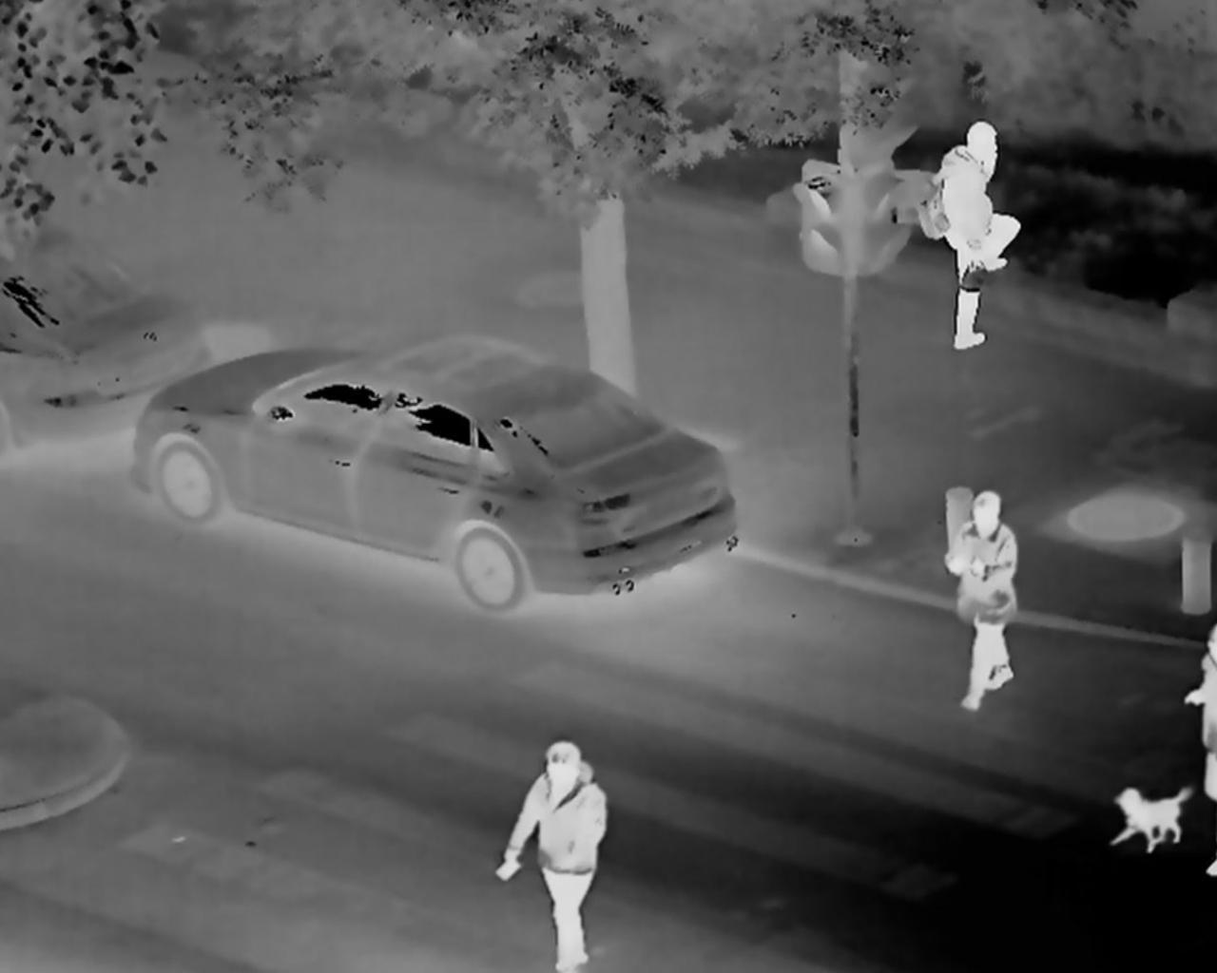person: (489, 738, 612, 973), (927, 110, 1029, 360), (948, 490, 1028, 712)
